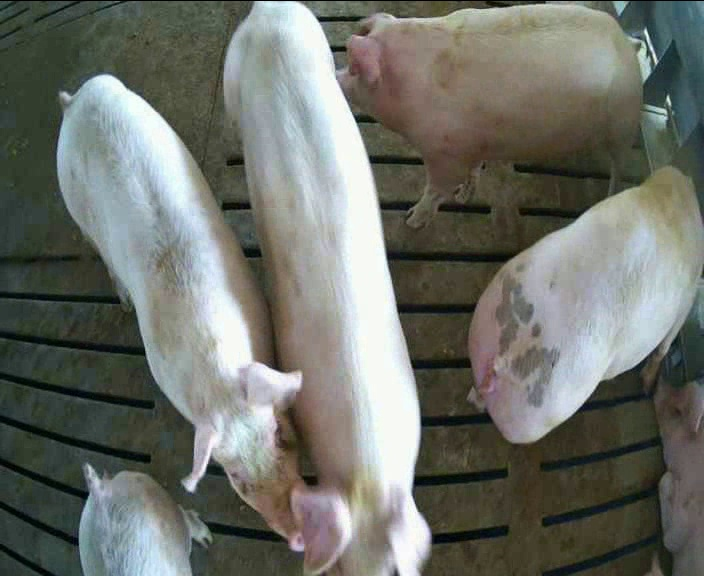pig: (227, 3, 430, 575), (60, 75, 302, 549), (338, 5, 641, 225), (469, 167, 703, 443)
